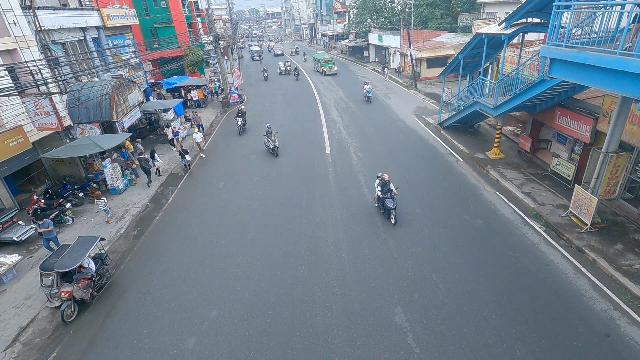car: (273, 44, 284, 55), (268, 41, 276, 50)
jeepney: (312, 52, 340, 81), (250, 46, 263, 61), (249, 41, 262, 48)
motorcycle: (371, 172, 401, 226), (261, 123, 282, 159), (234, 104, 249, 137), (361, 83, 373, 104), (260, 68, 270, 83), (292, 66, 301, 81), (303, 52, 307, 61), (267, 45, 271, 54)
